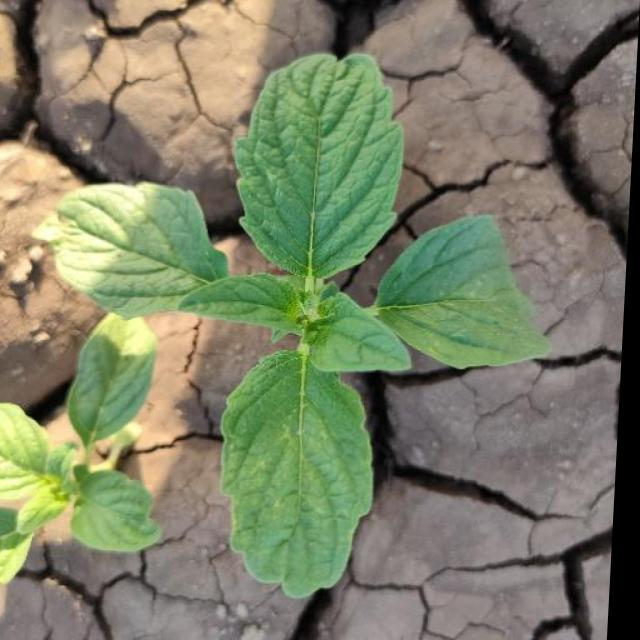crop: (34, 52, 574, 628), (0, 300, 199, 611)
